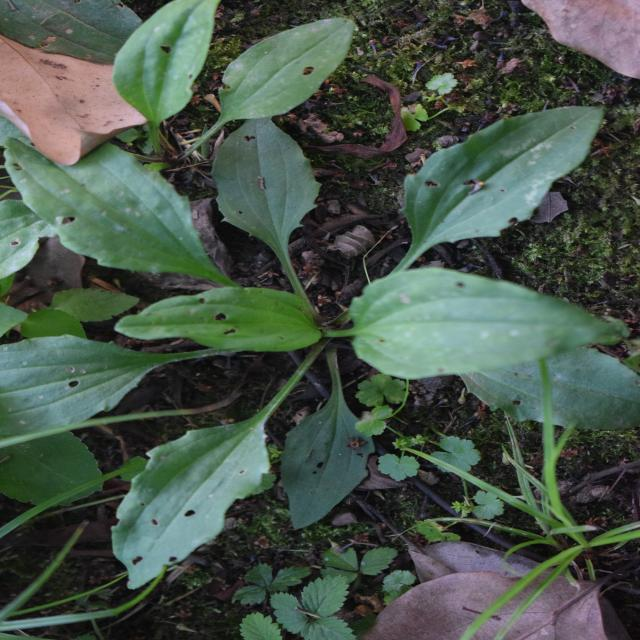plantain: (138, 0, 539, 607)
